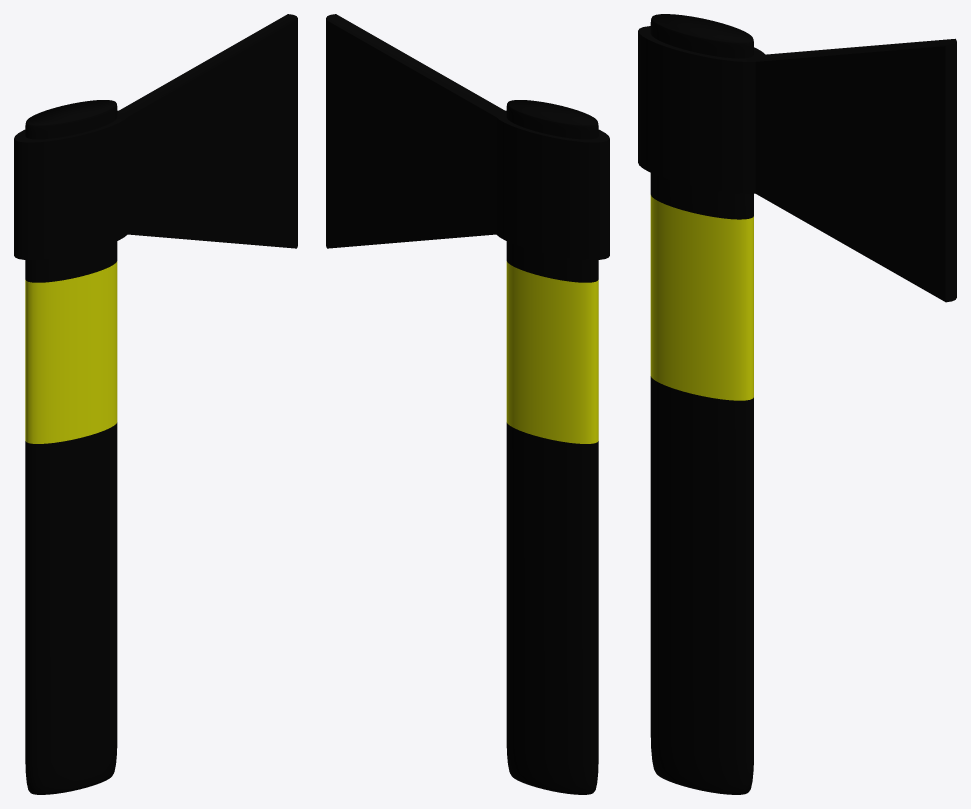
The model's file is axe.fbx.
The picture shows the model from 3 angles, left to right: view 1: azimuth 30°, elevation 25°; view 2: azimuth 150°, elevation 25°; view 3: azimuth 330°, elevation 25°; orthographic projection. The views are drawn at different scales.
Visible parts, largest first — view 1: axe; view 2: axe; view 3: axe.
Boxes of the visible parts, x1,y1,x2,y2 form: axe: [14, 14, 297, 794]; axe: [326, 14, 609, 794]; axe: [638, 14, 956, 794].
Size of the model in its own units: 15.8 by 38.22 by 2.25.
